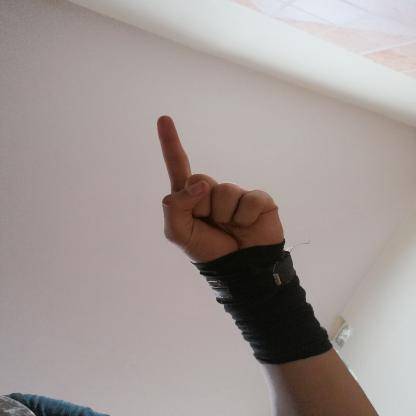BAA: (138, 104, 300, 273)
